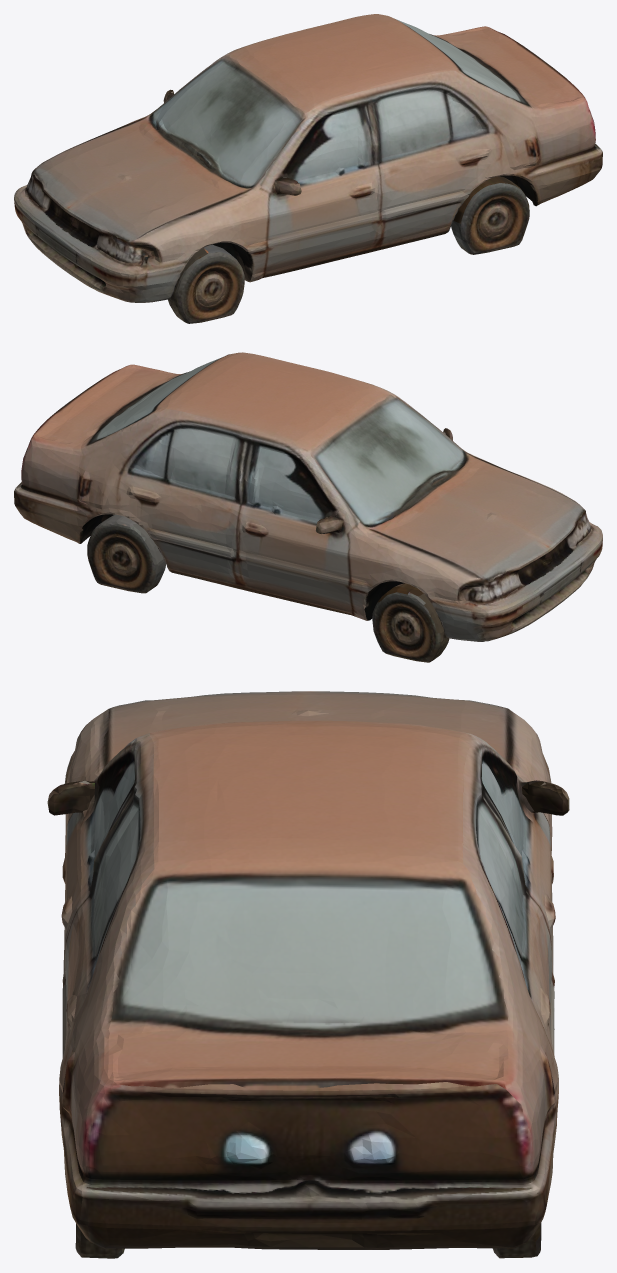
The model's file is rusted_sedan.glb.
3 views of the same model, one above another, from view 1: azimuth 30°, elevation 25°; view 2: azimuth 150°, elevation 25°; view 3: azimuth 270°, elevation 25° (orthographic). The views are drawn at different scales.
Parts seen in each view (by area): view 1: tmph7gyht9b.ply; view 2: tmph7gyht9b.ply; view 3: tmph7gyht9b.ply.
Part boxes in pixels (x1,y1,x2,y2): tmph7gyht9b.ply: [14, 14, 602, 323]; tmph7gyht9b.ply: [14, 352, 602, 662]; tmph7gyht9b.ply: [47, 691, 569, 1258].
Bounding box in the file's own units: 4.6 × 1.61 × 2.09.
1 material, 1 textured.
